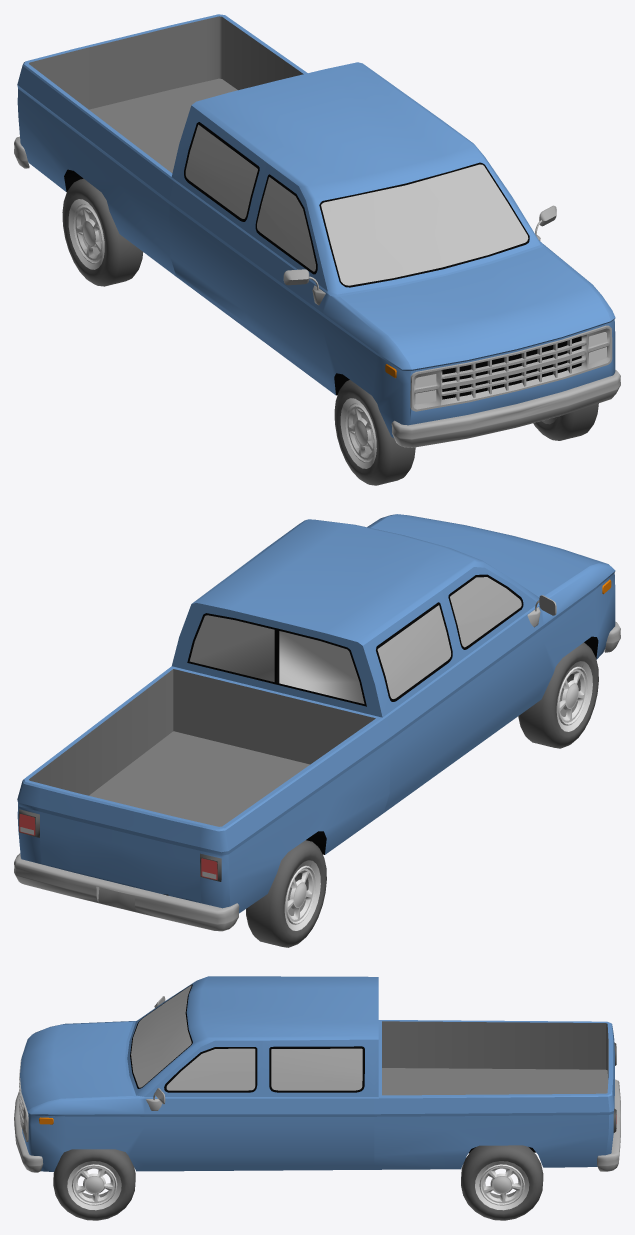
Rendered from truck_c.fbx.
The picture shows the model from 3 angles, top to bottom: view 1: azimuth 30°, elevation 25°; view 2: azimuth 150°, elevation 25°; view 3: azimuth 270°, elevation 25°; orthographic projection. The views are drawn at different scales.
Visible parts, largest first — view 1: Truck_C; view 2: Truck_C; view 3: Truck_C.
Boxes of the visible parts, x1,y1,x2,y2 form: Truck_C: [14, 14, 620, 485]; Truck_C: [14, 514, 620, 947]; Truck_C: [14, 976, 620, 1220].
Size of the model in its own units: 213 by 177 by 548.
